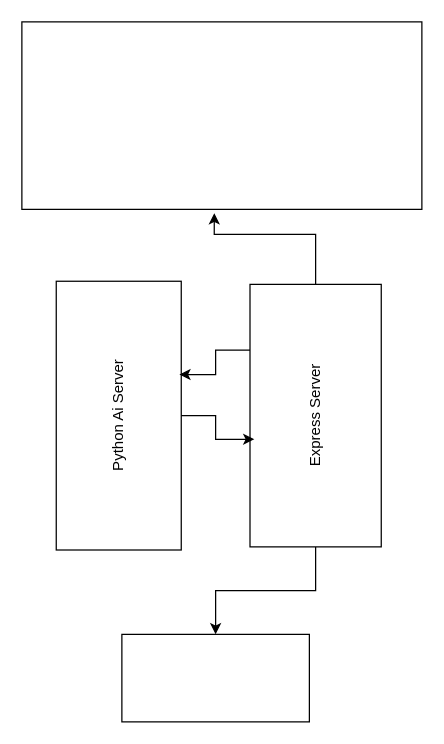
Image size: 444x744. Some labels were removed from this diagram. The shapes that lost their labels are listed below. From the top down, each one's box as (x1, y1, x2, y2) in pixels, then its label:
(21, 21, 422, 209): Data Base
(121, 633, 309, 722): Front End
